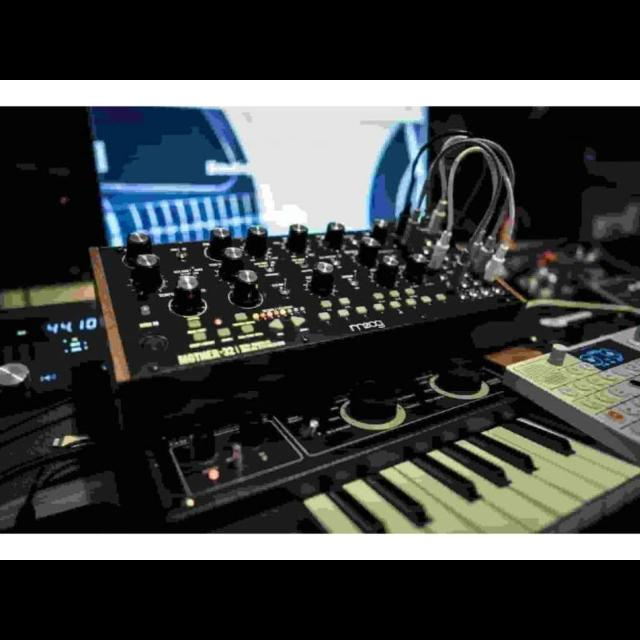Electronic-Keyboard: (125, 395, 628, 525)
